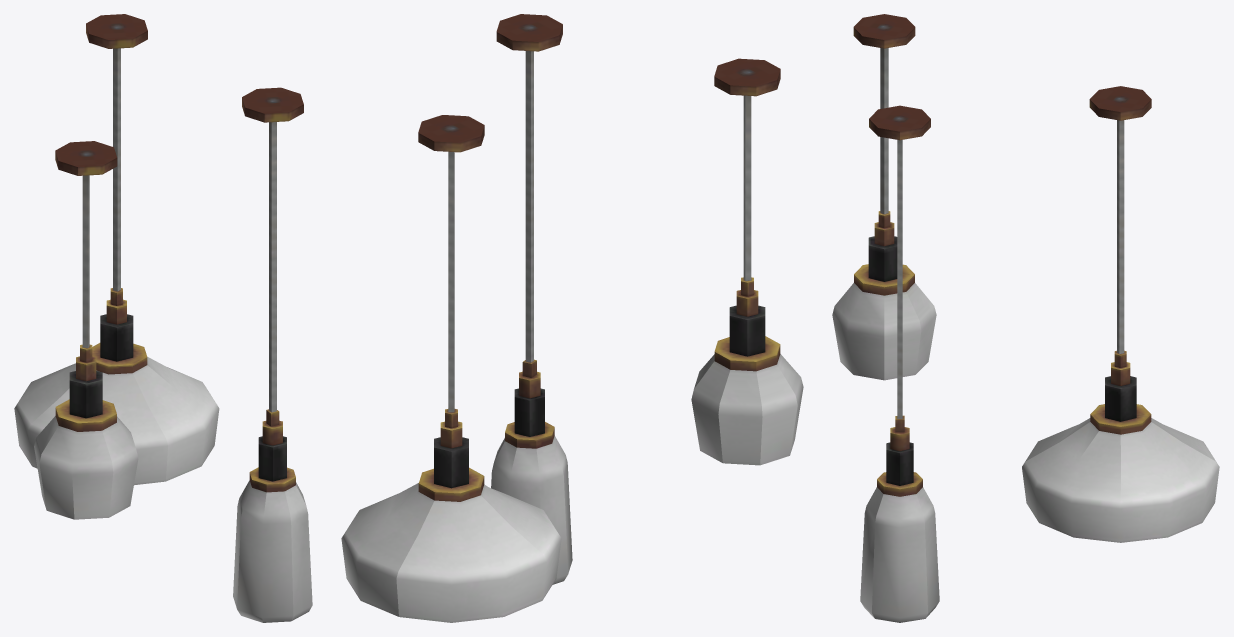
File: DonTrippLightFixture.fbx
3 renders of one model, left to right at view 1: azimuth 30°, elevation 25°; view 2: azimuth 150°, elevation 25°; view 3: azimuth 270°, elevation 25°, orthographic. The views are drawn at different scales.
Parts seen in each view (by area): view 1: TinyLiving_DonTrippLightFixture; view 2: TinyLiving_DonTrippLightFixture; view 3: TinyLiving_DonTrippLightFixture.
Boxes of the visible parts, bbox=[...] form: TinyLiving_DonTrippLightFixture: bbox=[14, 14, 312, 622]; TinyLiving_DonTrippLightFixture: bbox=[341, 14, 803, 622]; TinyLiving_DonTrippLightFixture: bbox=[832, 14, 1219, 622].
Size of the model in its own units: 47.09 by 79.06 by 56.72.
